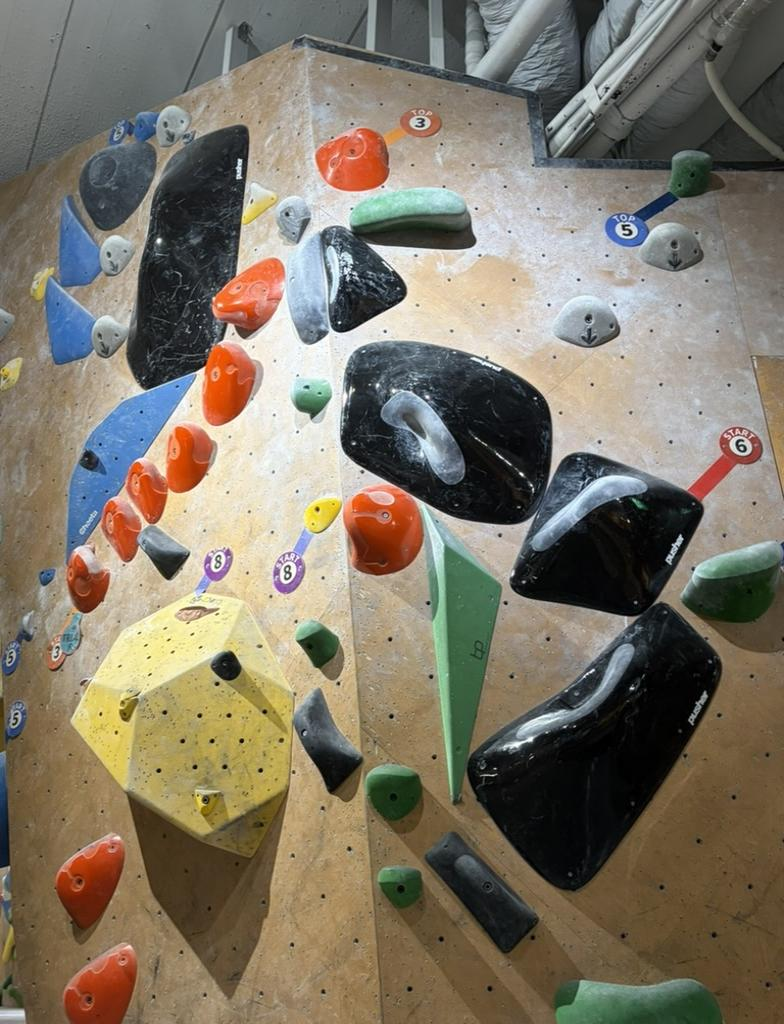crimp: (241, 182, 276, 222), (305, 497, 341, 532), (194, 787, 220, 815), (176, 604, 216, 622), (118, 690, 140, 721)
downhold: (552, 296, 619, 347), (640, 222, 702, 271), (276, 195, 309, 243), (91, 315, 128, 357), (100, 234, 135, 276), (156, 105, 190, 146)
jib: (39, 568, 55, 586)
jug: (681, 541, 781, 621), (55, 834, 124, 927), (63, 943, 136, 1023), (350, 187, 470, 233), (316, 128, 388, 191), (203, 342, 254, 424), (365, 764, 422, 819), (167, 423, 213, 491), (66, 543, 110, 611), (126, 458, 166, 522), (101, 497, 141, 561), (669, 150, 712, 197), (296, 620, 338, 667), (378, 865, 421, 907), (211, 652, 241, 680)
ledge: (469, 604, 720, 889), (510, 453, 702, 615), (46, 278, 95, 363), (59, 195, 100, 286)
pinch: (425, 833, 537, 951), (294, 688, 361, 791), (287, 235, 329, 343)
sidepull: (127, 125, 248, 389), (422, 507, 500, 802), (321, 227, 405, 331), (343, 484, 422, 574), (212, 257, 282, 331)
sloper: (80, 142, 155, 233)
tape: (688, 427, 762, 500), (605, 192, 677, 246), (274, 529, 311, 593), (47, 609, 81, 670), (385, 108, 440, 144), (196, 547, 232, 594), (2, 632, 31, 674), (6, 701, 26, 738), (108, 119, 133, 144)
undercling: (341, 341, 551, 523)
volume: (74, 593, 293, 856), (66, 374, 194, 560)
